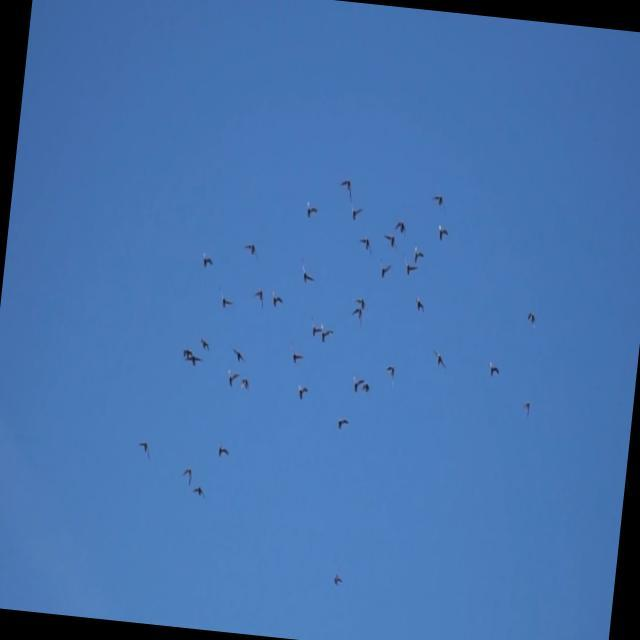bird: (298, 255, 317, 288), (286, 339, 306, 366), (215, 286, 235, 310), (317, 320, 335, 346), (400, 251, 419, 275), (429, 191, 448, 214), (431, 347, 449, 371), (307, 315, 324, 340), (214, 438, 231, 463), (224, 366, 241, 390), (228, 344, 247, 365), (347, 201, 365, 223), (382, 231, 400, 253), (268, 287, 285, 310), (338, 178, 355, 199), (357, 236, 374, 257), (383, 362, 396, 388), (304, 200, 320, 221), (349, 306, 365, 327), (350, 372, 364, 396), (393, 216, 408, 238), (378, 257, 393, 279), (183, 352, 202, 369), (180, 466, 194, 489), (243, 240, 259, 260), (294, 382, 310, 402), (136, 440, 152, 460), (486, 358, 501, 379), (252, 288, 266, 310), (351, 292, 368, 310), (436, 222, 450, 243), (200, 250, 214, 271), (239, 373, 253, 394), (190, 483, 207, 500), (335, 415, 350, 433), (412, 245, 426, 264), (413, 294, 425, 314), (526, 309, 538, 329), (199, 334, 210, 353), (521, 400, 532, 419), (181, 344, 193, 359), (332, 572, 343, 588), (361, 380, 371, 393)
